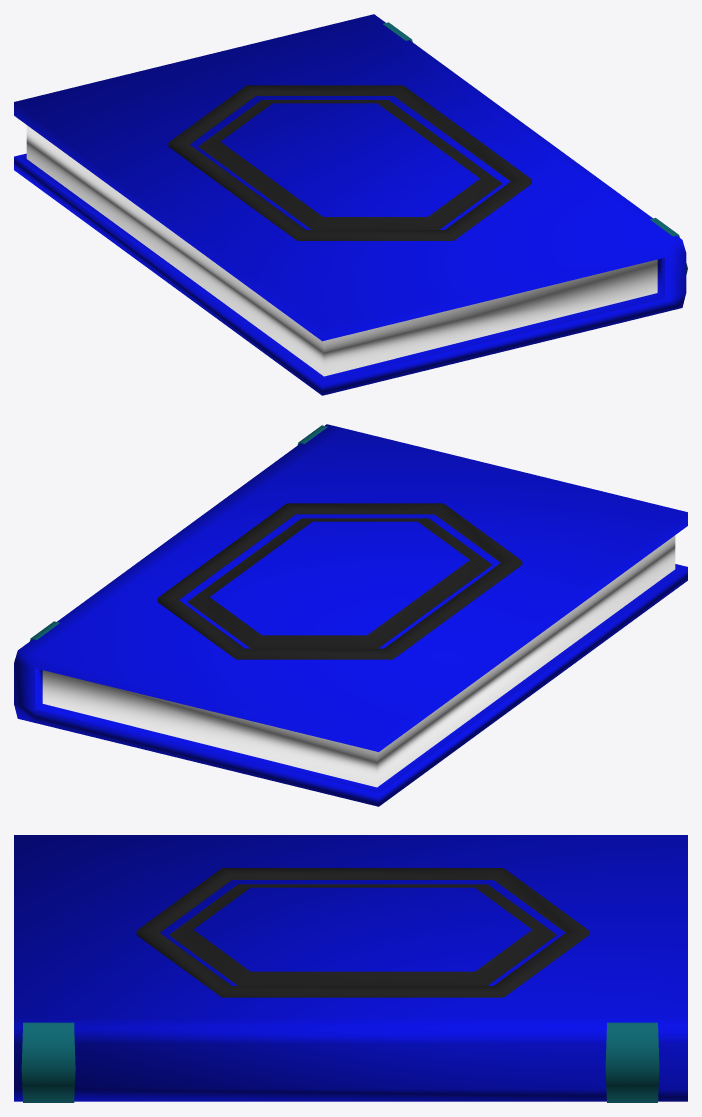
The model's file is Livro com Runa.fbx.
3 renders of one model, top to bottom at view 1: azimuth 30°, elevation 25°; view 2: azimuth 150°, elevation 25°; view 3: azimuth 270°, elevation 25°, orthographic. The views are drawn at different scales.
Parts seen in each view (by area): view 1: Livro.004; view 2: Livro.004; view 3: Livro.004.
Part boxes in pixels (x1,y1,x2,y2): Livro.004: [14, 14, 687, 395]; Livro.004: [14, 424, 687, 806]; Livro.004: [14, 835, 687, 1102].
Size of the model in its own units: 17.13 by 3.27 by 24.77.
